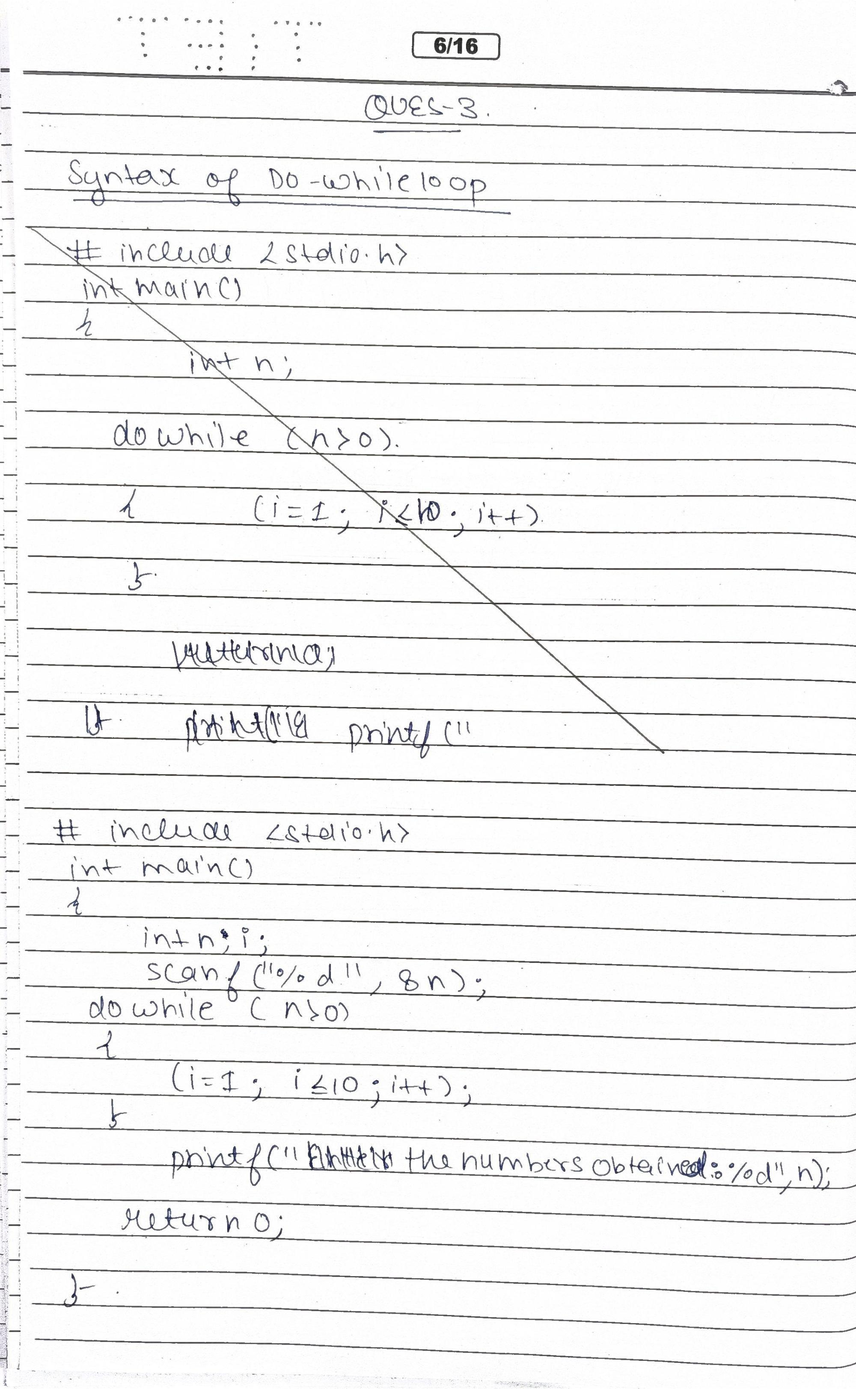cuttings: (20, 221, 673, 758), (169, 636, 338, 675), (181, 705, 311, 752), (304, 1139, 399, 1174), (114, 480, 144, 527), (125, 556, 157, 593), (84, 703, 113, 736)
